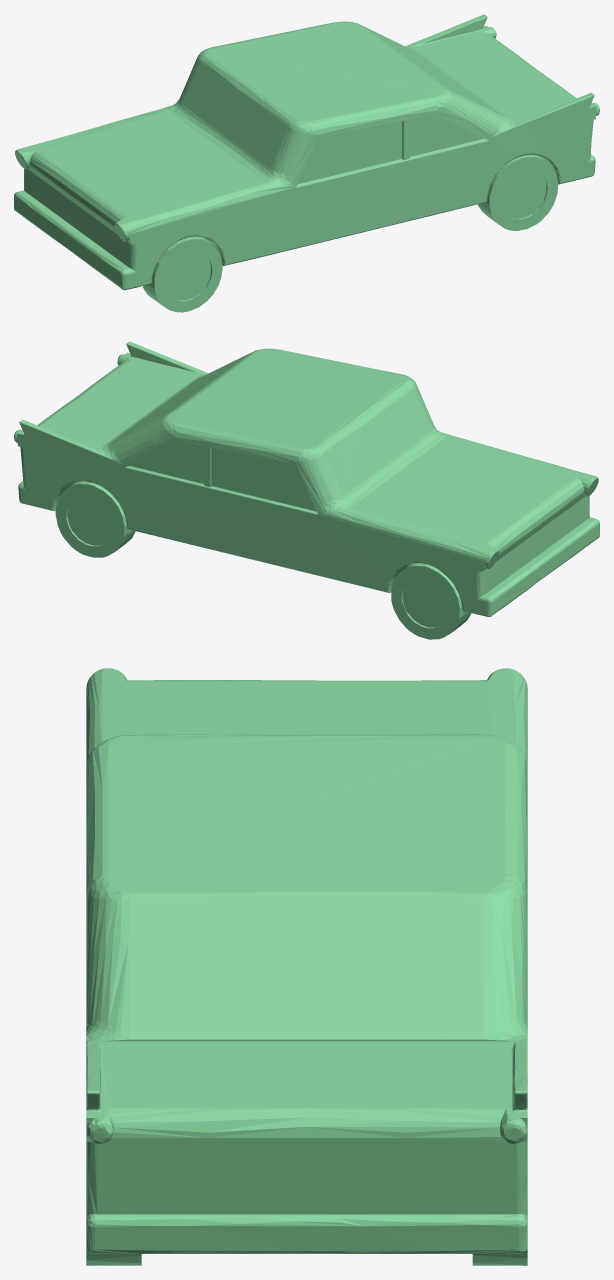
Rendered from antiquecar.glb.
3 views of the same model, one above another, from view 1: azimuth 30°, elevation 25°; view 2: azimuth 150°, elevation 25°; view 3: azimuth 270°, elevation 25° (orthographic). The views are drawn at different scales.
Parts seen in each view (by area): view 1: Mesh_Mesh_head_geo.001_lambert2SG.001; view 2: Mesh_Mesh_head_geo.001_lambert2SG.001; view 3: Mesh_Mesh_head_geo.001_lambert2SG.001.
Part boxes in pixels (left/top/right/bottom): Mesh_Mesh_head_geo.001_lambert2SG.001: left=14, top=14, right=599, bottom=312; Mesh_Mesh_head_geo.001_lambert2SG.001: left=14, top=341, right=599, bottom=639; Mesh_Mesh_head_geo.001_lambert2SG.001: left=86, top=668, right=527, bottom=1265.
Bounding box in the file's own units: 42.08 × 13.07 × 16.8.
